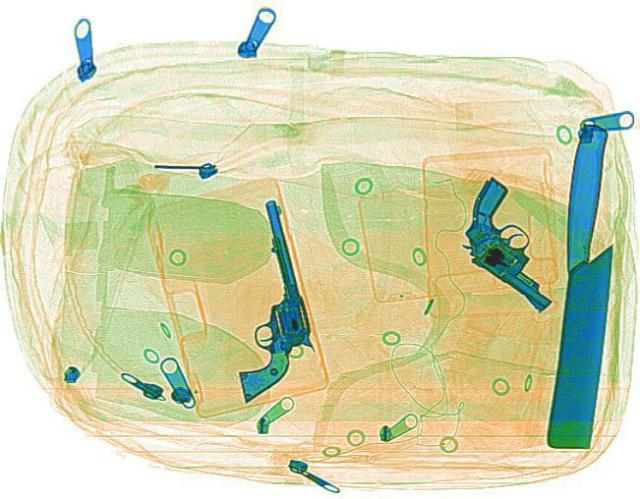Gun: (190, 197, 330, 404), (419, 174, 611, 311)
Knife: (545, 122, 619, 449)
